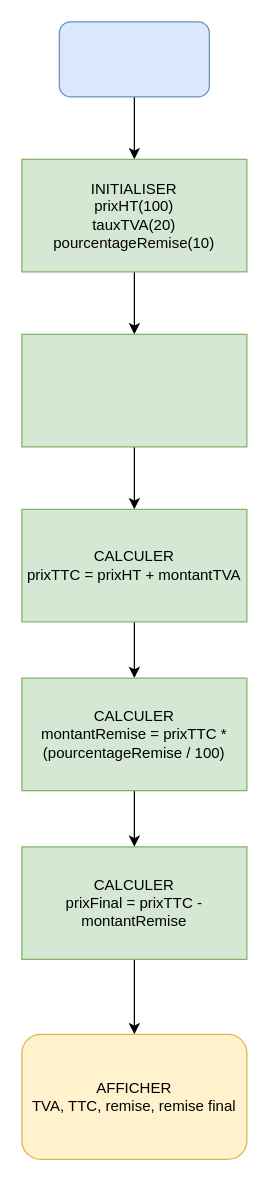
Some shapes in this 269 by 1181 pixel diagram are drawn without their labels. Each missing label, with the centre of its shape:
CALCULER montantTVA = prixHT * (tauxTVA / 100): point (134, 390)
DEBUT: point (133, 59)
